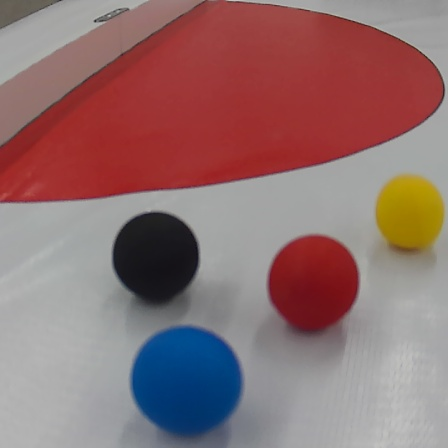black: (111, 211, 201, 304)
blue: (120, 328, 246, 434)
red: (266, 233, 360, 336)
red_base: (2, 1, 448, 206)
yellow: (373, 177, 445, 251)
